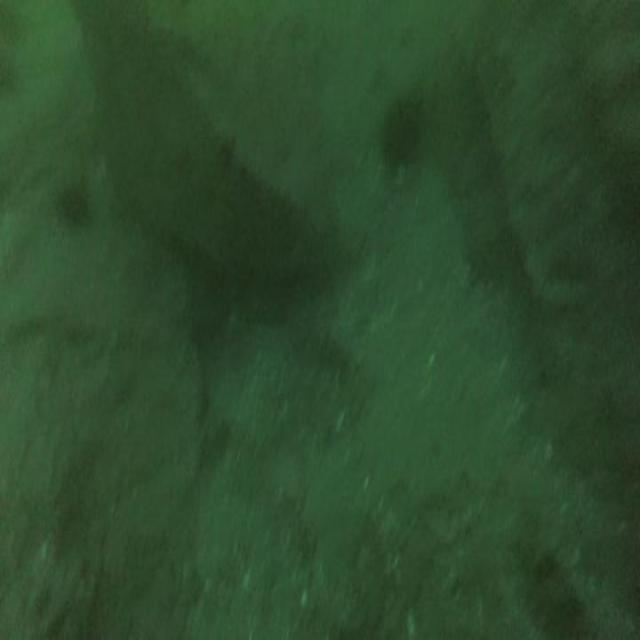echinus: (378, 71, 428, 180), (51, 164, 98, 237)
